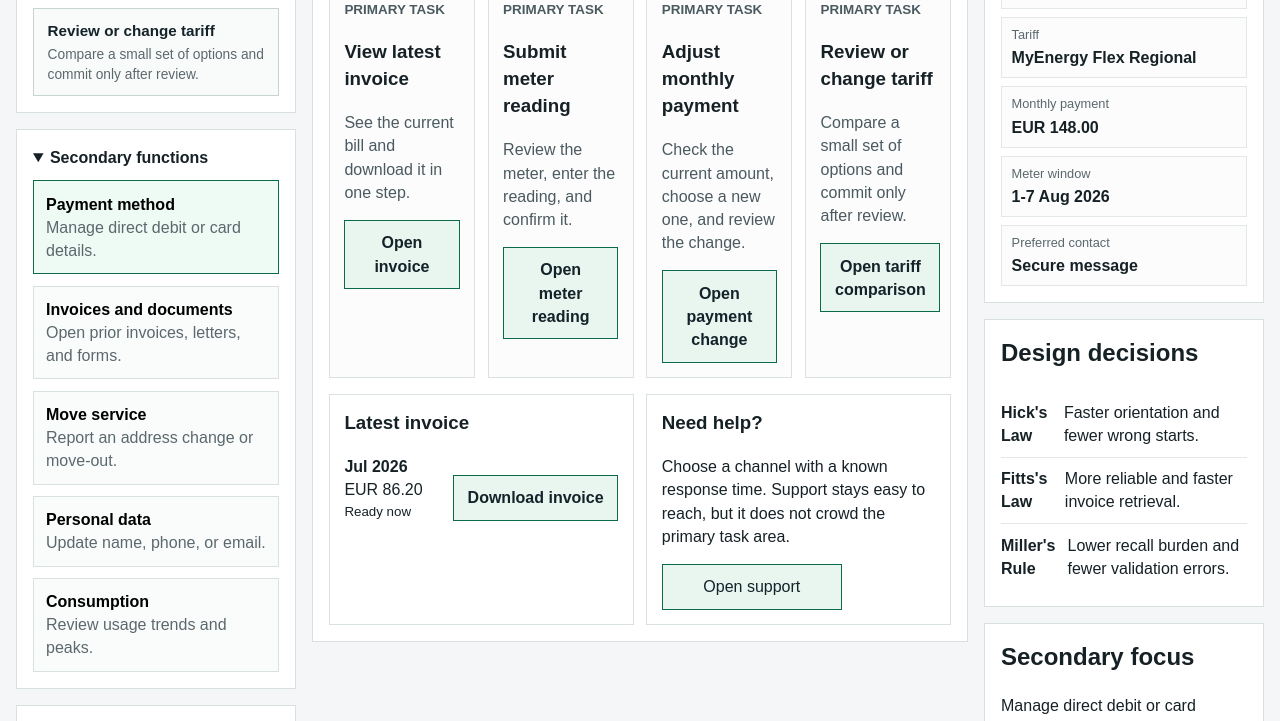
Test: Redesigned portal behaviors › validates monthly payment input before review
(page scrolled)
Click the button "Open payment change". click: x=719, y=316
box: top-left (662, 270), bottom-right (777, 363)
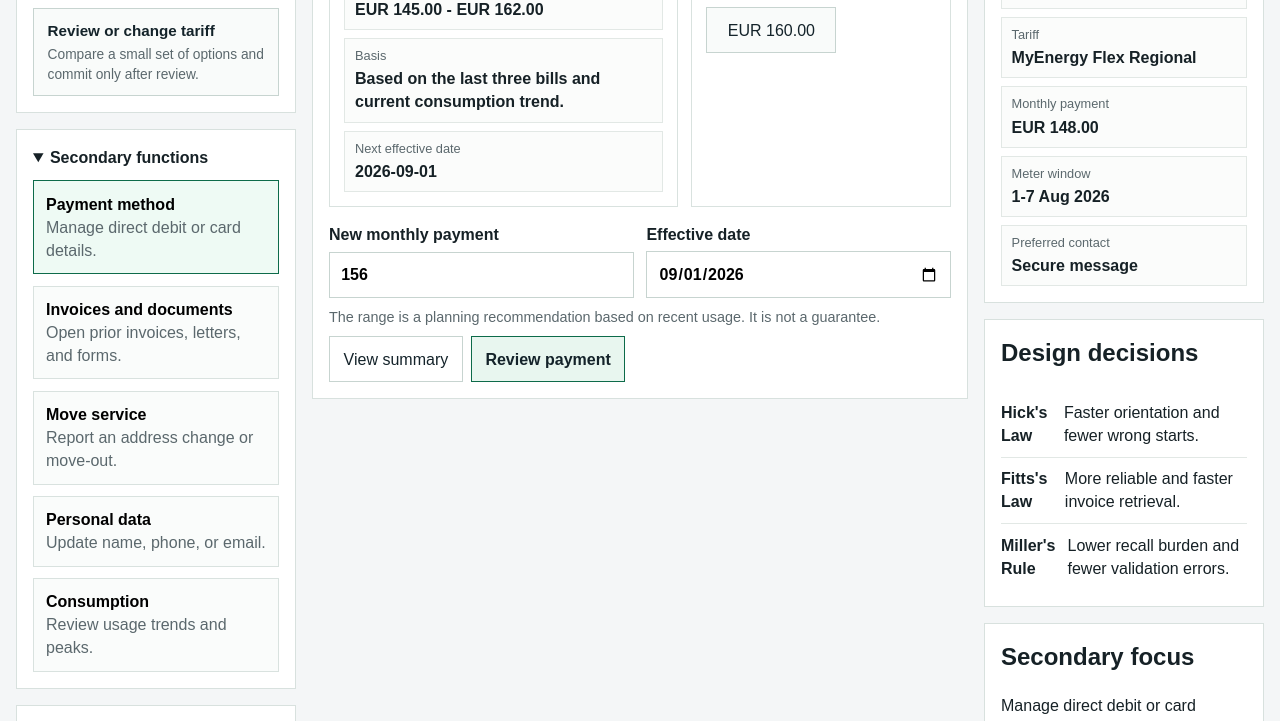
Clear the field labelled "New monthly payment". click: x=481, y=275
box: top-left (329, 252), bottom-right (634, 298)
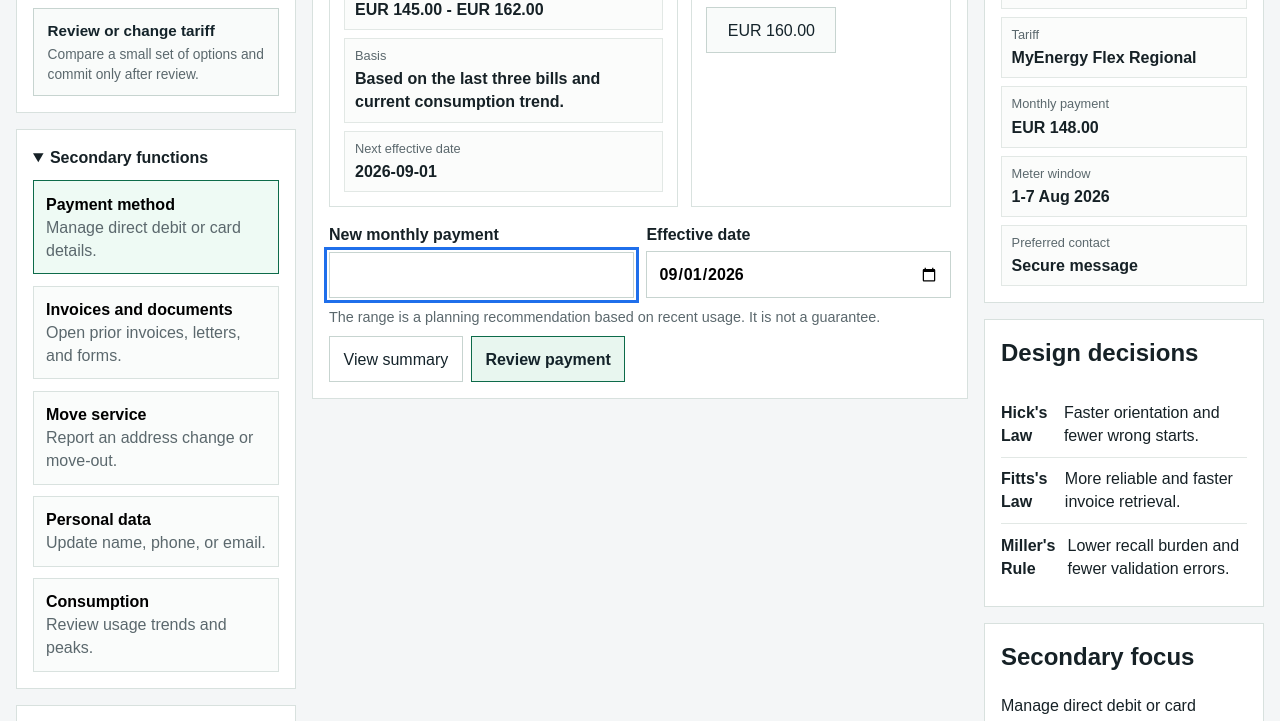
Click the button "Review payment". click: x=548, y=359
box: top-left (471, 336), bottom-right (625, 382)
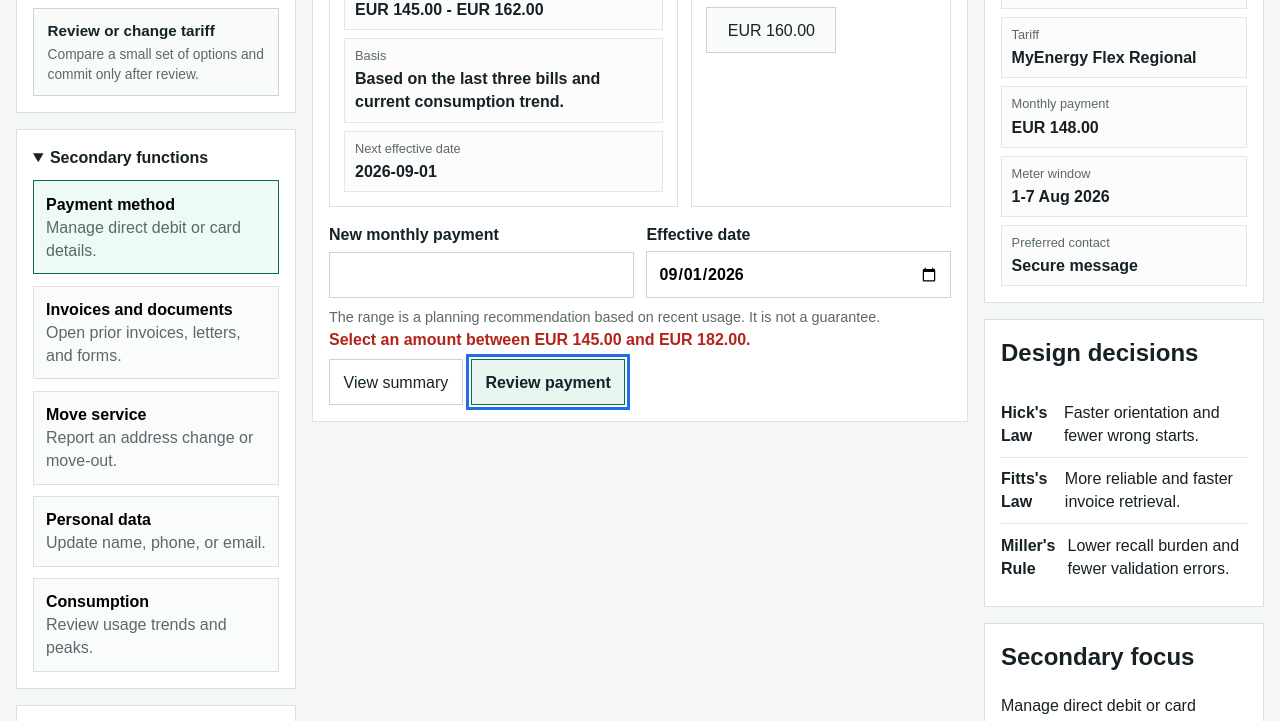
Expected: the text "Select an amount between EUR 145.00 and EUR 182.00." is shown, top-left (329, 331), bottom-right (750, 348)
